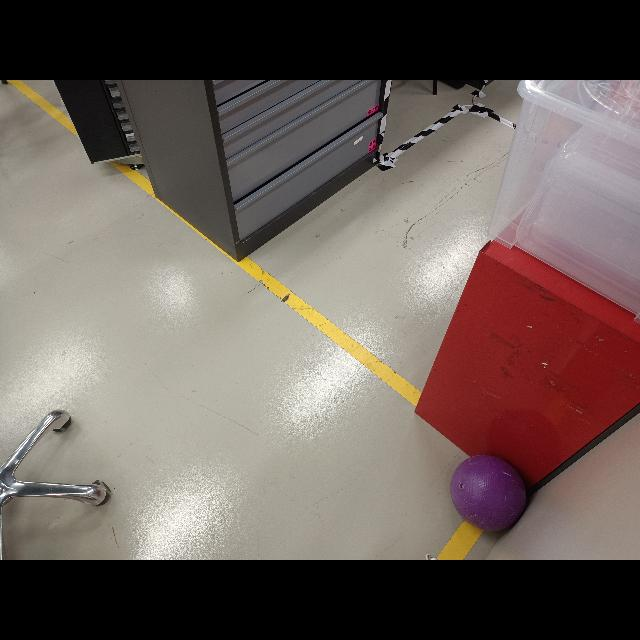P: (448, 452, 532, 536)
